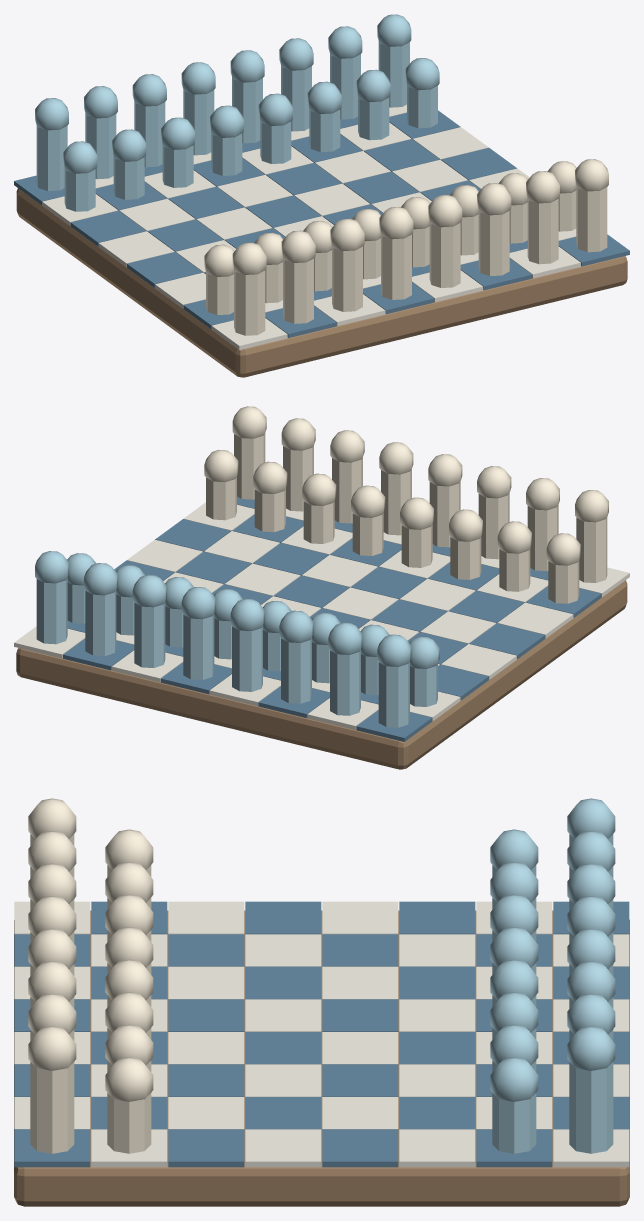
File: dolly-chess.glb
3 views of the same model, one above another, from view 1: azimuth 30°, elevation 25°; view 2: azimuth 150°, elevation 25°; view 3: azimuth 270°, elevation 25° (orthographic). The views are drawn at different scales.
Visible parts, largest first — view 1: chess board; view 2: chess board; view 3: chess board.
Part boxes in pixels (x1=…): chess board: x1=14, y1=14, x2=629, y2=377; chess board: x1=14, y1=406, x2=629, y2=769; chess board: x1=14, y1=798, x2=629, y2=1206.
Size of the model in its own units: 0.9 by 0.268 by 0.9.
